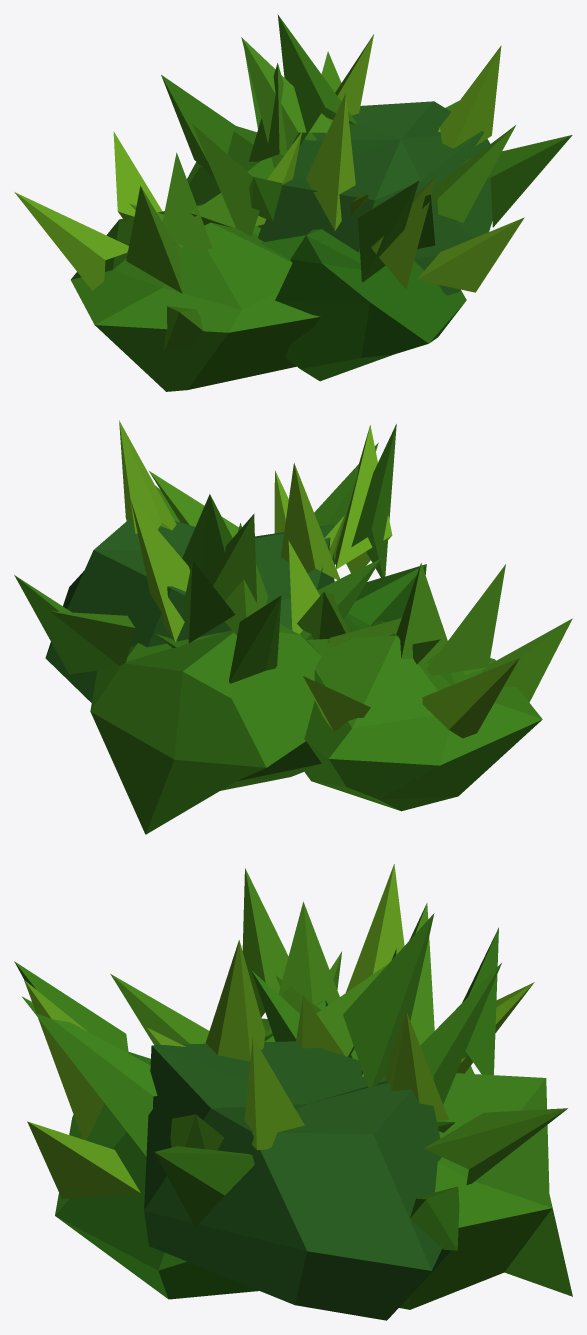
Rendered from shrub_b.gltf.
3 views of the same model, one above another, from view 1: azimuth 30°, elevation 25°; view 2: azimuth 150°, elevation 25°; view 3: azimuth 270°, elevation 25° (orthographic). The views are drawn at different scales.
Visible parts, largest first — view 1: shrub_b; view 2: shrub_b; view 3: shrub_b.
Boxes of the visible parts, x1,y1,x2,y2 form: shrub_b: (14, 14, 572, 391); shrub_b: (14, 420, 572, 834); shrub_b: (14, 864, 572, 1320).
Size of the model in its own units: 1.37 by 0.8449 by 1.08.
